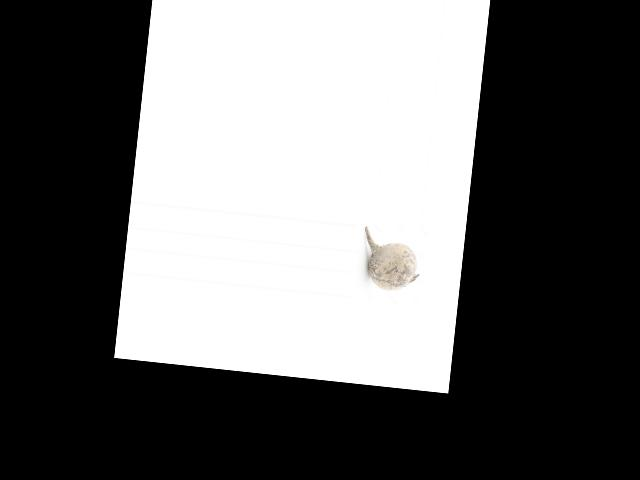beet: (358, 226, 423, 293)
